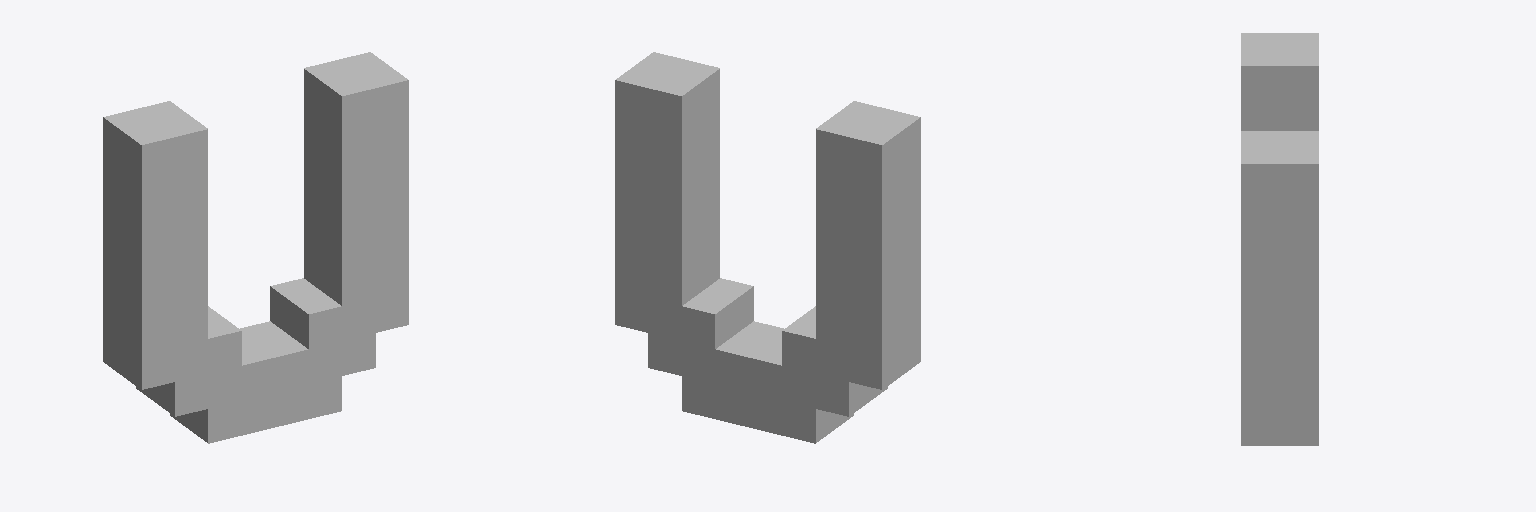
File: magnet.obj
3 renders of one model, left to right at view 1: azimuth 30°, elevation 25°; view 2: azimuth 150°, elevation 25°; view 3: azimuth 270°, elevation 25°, orthographic.
Visible parts, largest first — view 1: object 1; view 2: object 1; view 3: object 1.
Boxes of the visible parts, x1,y1,x2,y2 form: object 1: [103, 52, 408, 443]; object 1: [615, 52, 920, 443]; object 1: [1241, 33, 1318, 445].
Bounding box in the file's own units: 0.8 × 0.9 × 0.2.